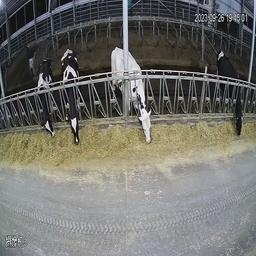cow: (109, 43, 151, 143), (215, 48, 245, 135), (60, 49, 84, 144), (37, 59, 55, 141)
